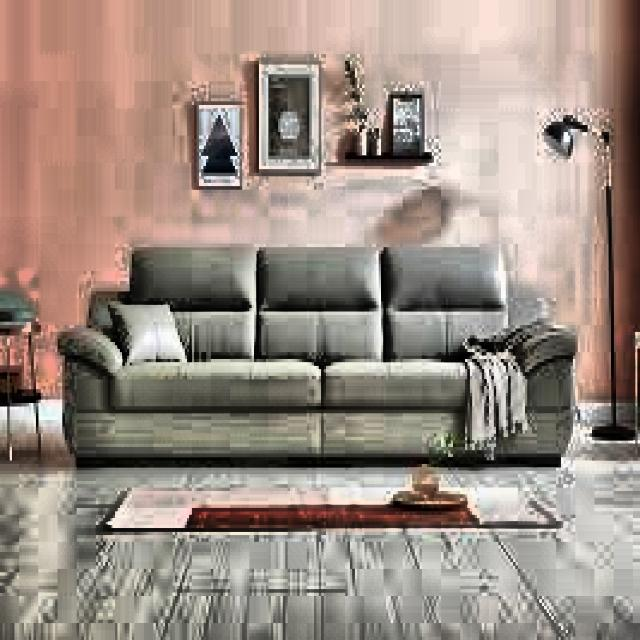sofa: (53, 240, 575, 474)
